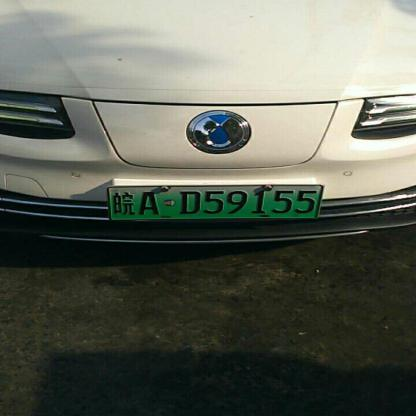lp: (107, 185, 322, 220)
